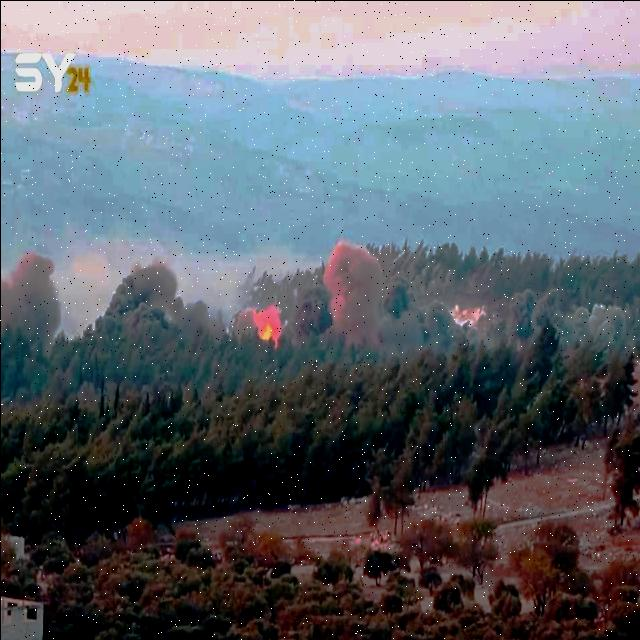api: (257, 313, 285, 344)
asap: (498, 285, 639, 347), (138, 241, 225, 335), (1, 244, 75, 350), (325, 245, 391, 359)
